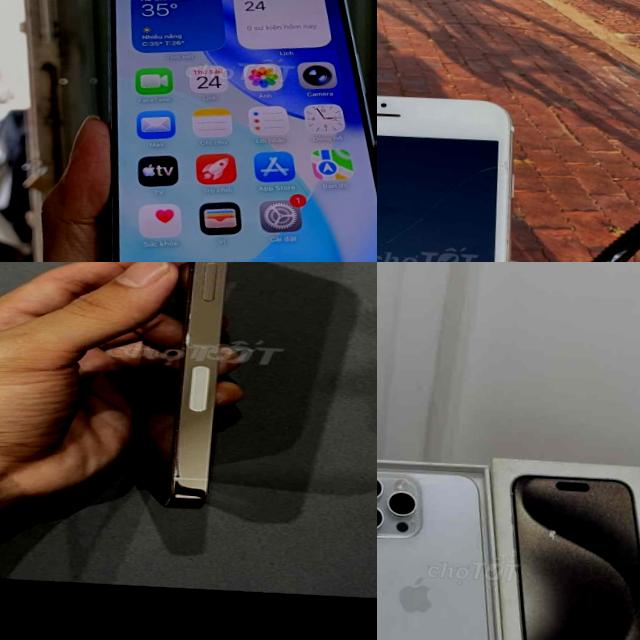gen_12_13: (80, 262, 331, 535)
gen_15: (377, 451, 513, 640)
gen_17: (83, 0, 377, 262)
gen_6: (377, 96, 512, 262)
